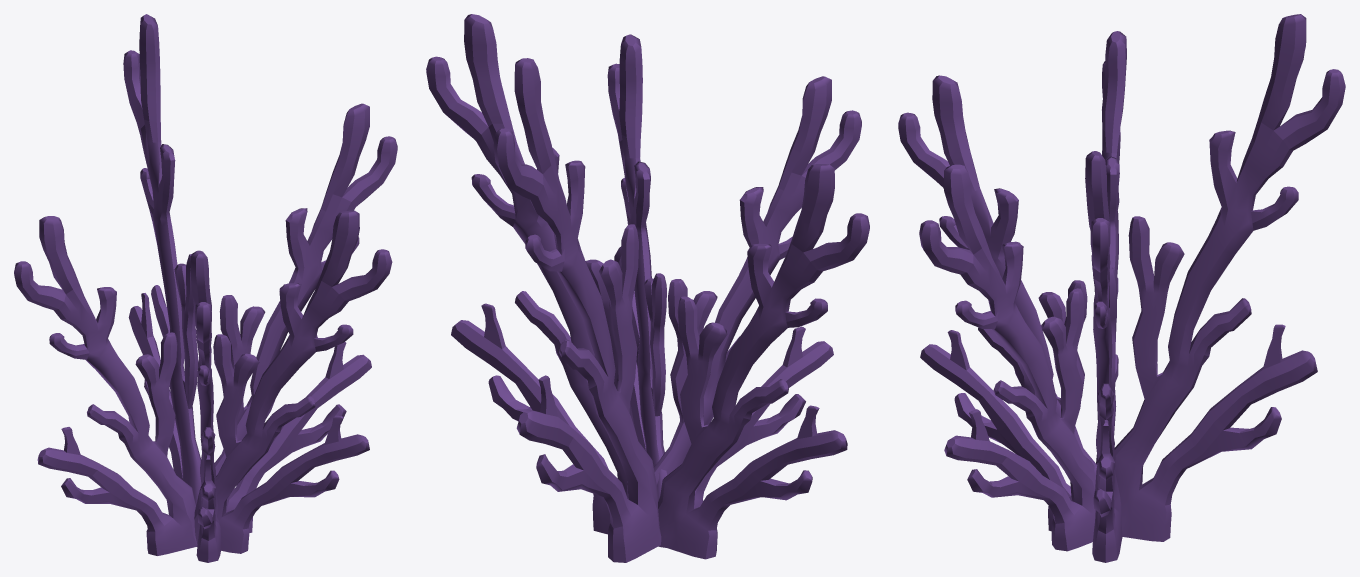
File: coral_9.obj
The picture shows the model from 3 angles, left to right: view 1: azimuth 30°, elevation 25°; view 2: azimuth 150°, elevation 25°; view 3: azimuth 270°, elevation 25°; orthographic projection. The views are drawn at different scales.
Visible parts, largest first — view 1: pCylinder23_Redd_0.001; view 2: pCylinder23_Redd_0.001; view 3: pCylinder23_Redd_0.001.
Part boxes in pixels (left/top/right/bottom): pCylinder23_Redd_0.001: left=14, top=14, right=397, bottom=562; pCylinder23_Redd_0.001: left=426, top=14, right=869, bottom=562; pCylinder23_Redd_0.001: left=898, top=14, right=1345, bottom=562.
Size of the model in its own units: 1.92 by 2.22 by 1.68.
